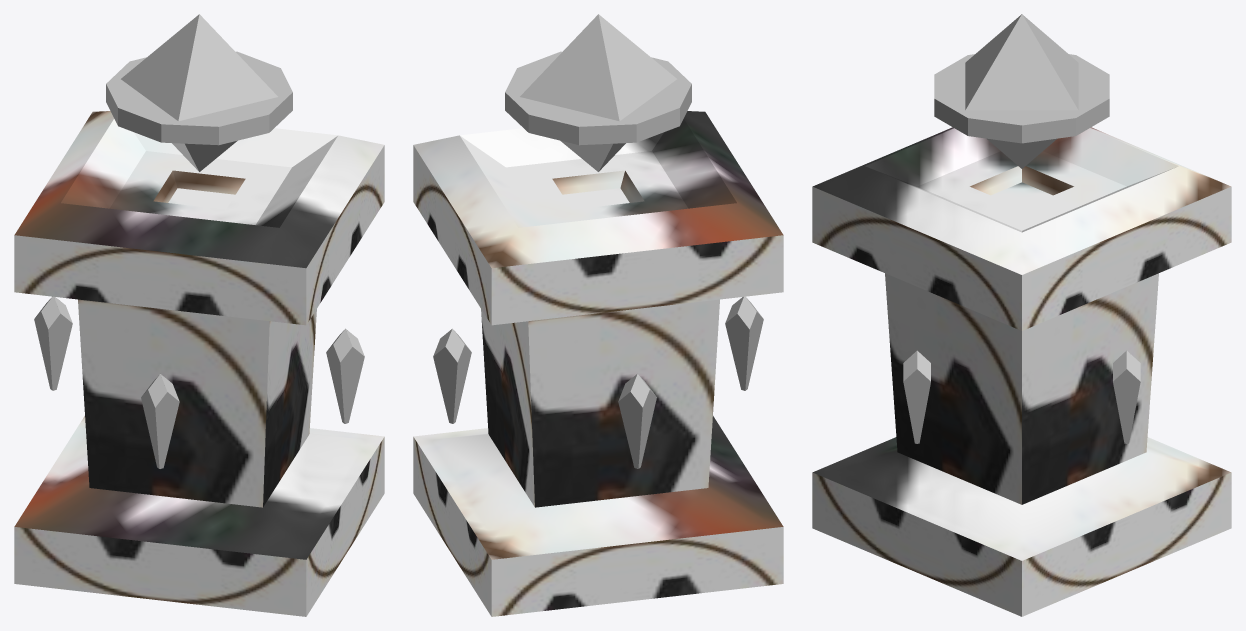
File: earth-tower.FBX
3 views of the same model, side by side, from view 1: azimuth 30°, elevation 25°; view 2: azimuth 150°, elevation 25°; view 3: azimuth 270°, elevation 25° (orthographic). The views are drawn at different scales.
Visible parts, largest first — view 1: Cylinder002, Object, Object001; view 2: Cylinder002, Object, Object001; view 3: Cylinder002, Object, Object001.
Boxes of the visible parts, x1,y1,x2,y2 form: Cylinder002: (14, 111, 384, 616); Object: (106, 14, 292, 171); Object001: (34, 296, 364, 468); Cylinder002: (413, 111, 783, 616); Object: (505, 14, 691, 171); Object001: (433, 296, 763, 468); Cylinder002: (812, 127, 1231, 616); Object: (934, 14, 1109, 168); Object001: (903, 350, 1140, 443).
Size of the model in its own units: 39.37 by 53.32 by 39.37.
